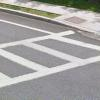Crosswalk: (5, 24, 100, 96)
